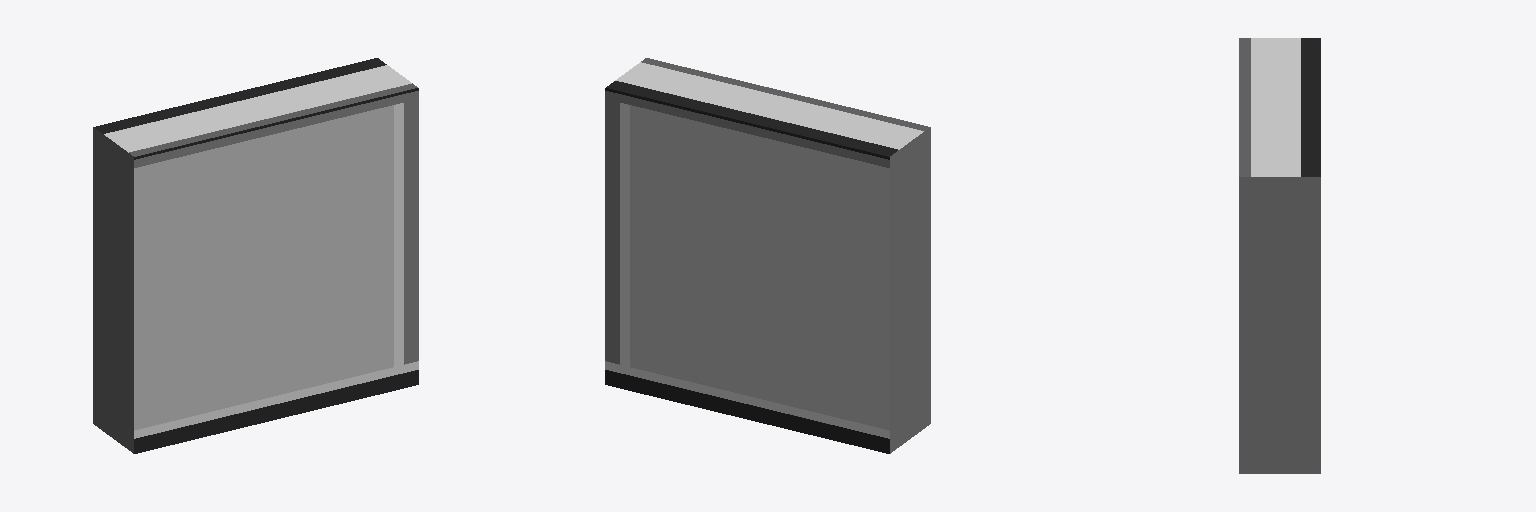
3 renders of one model, left to right at view 1: azimuth 30°, elevation 25°; view 2: azimuth 150°, elevation 25°; view 3: azimuth 270°, elevation 25°, orthographic.
Parts seen in each view (by area): view 1: Wall3D; view 2: Wall3D; view 3: Wall3D.
Boxes of the visible parts, box(x1,y1,x2,y2) form: Wall3D: box(93, 58, 418, 453); Wall3D: box(605, 58, 930, 453); Wall3D: box(1239, 38, 1320, 473).
Bounding box in the file's own units: 2 × 2 × 0.5.
Materials: 1 (1 with a texture image).